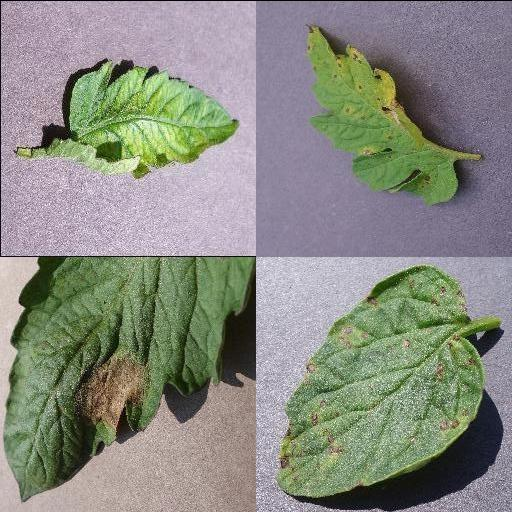Late Blight: (0, 256, 256, 500)
Mosaic Virus: (67, 60, 239, 179)
Septoria: (271, 262, 485, 494), (304, 24, 458, 204)
